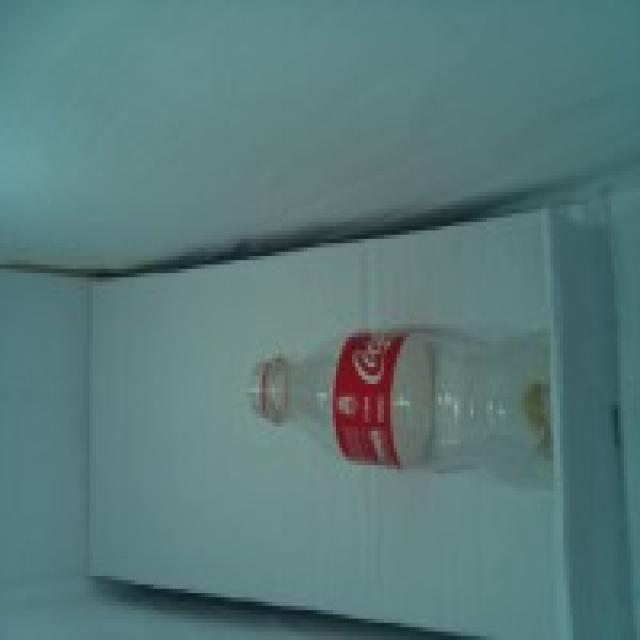Anorganik: (250, 324, 554, 495)
